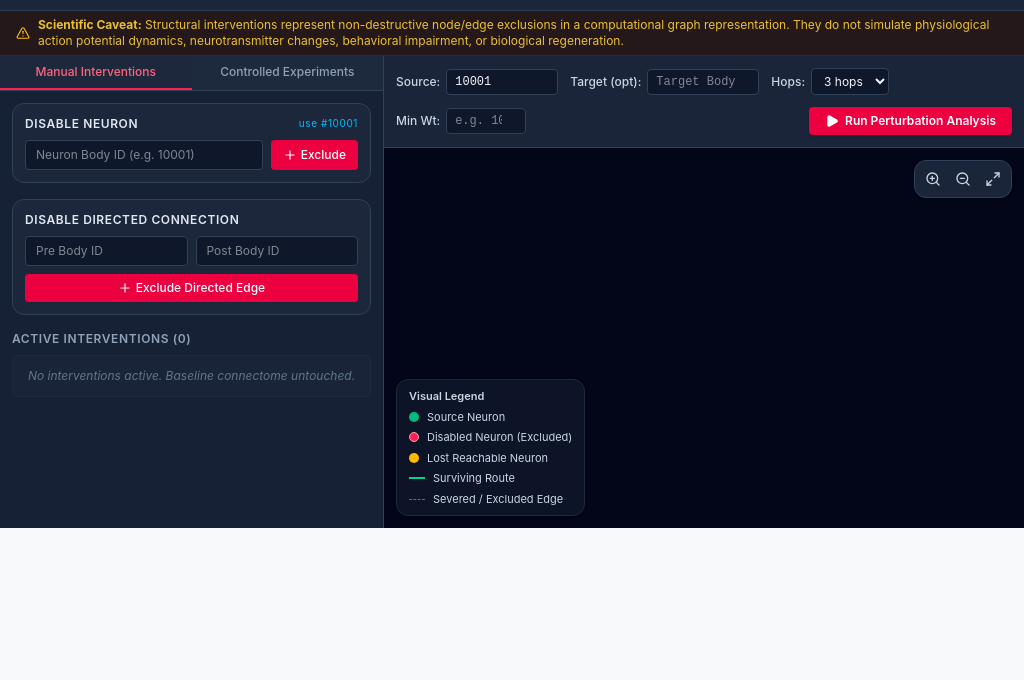
Scenario: PerturbationLab (V5) Component › runs comparison analysis and displays before-and-after results
The image size is (1024, 680).
Click the button "Run Perturbation Analysis".
click(911, 121)  # box [809,107,1012,135]
(page scrolled)
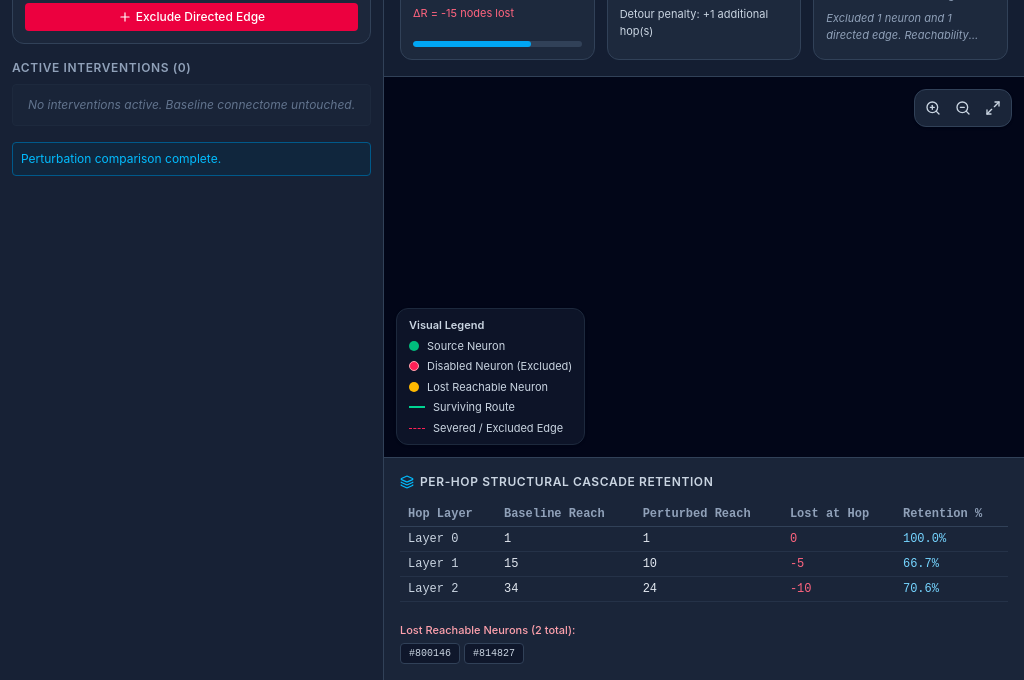
Expected: the text "ΔR = -15 nodes lost" is shown, [413,6,514,20]
Expected: the heading "Per-Hop Structural Cascade Retention" is shown, [400,474,713,489]
Expected: the text "Lost Reachable Neurons (2 total):" is shown, [400,623,575,637]
